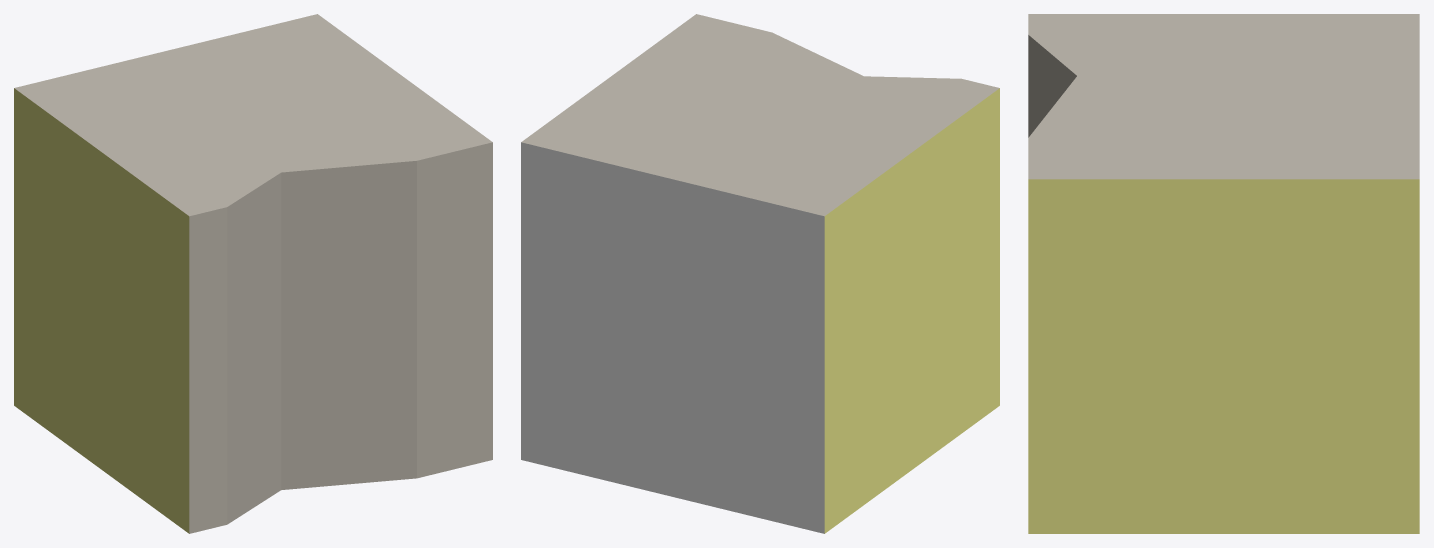
The model's file is Cracked_Straight_1x2_1_Mid.glb.
The picture shows the model from 3 angles, left to right: view 1: azimuth 30°, elevation 25°; view 2: azimuth 150°, elevation 25°; view 3: azimuth 270°, elevation 25°; orthographic projection. The views are drawn at different scales.
Visible parts, largest first — view 1: Cracked_Straight_1x2_1_Mid; view 2: Cracked_Straight_1x2_1_Mid; view 3: Cracked_Straight_1x2_1_Mid.
Part boxes in pixels (<box>): Cracked_Straight_1x2_1_Mid: <box>14,14,492,533</box>; Cracked_Straight_1x2_1_Mid: <box>521,14,999,533</box>; Cracked_Straight_1x2_1_Mid: <box>1028,14,1419,533</box>.
Bounding box in the file's own units: 100 × 100 × 100.
